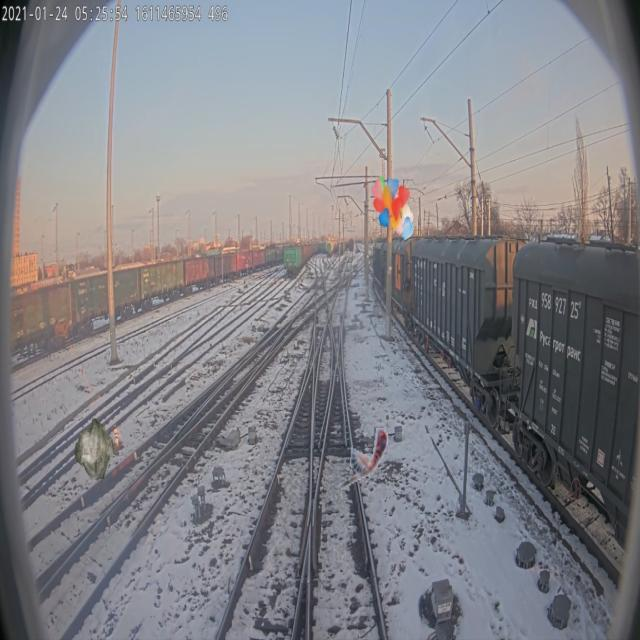balloon: (371, 176, 414, 240)
floating object: (336, 426, 389, 490)
plastic bag: (74, 416, 115, 481)
